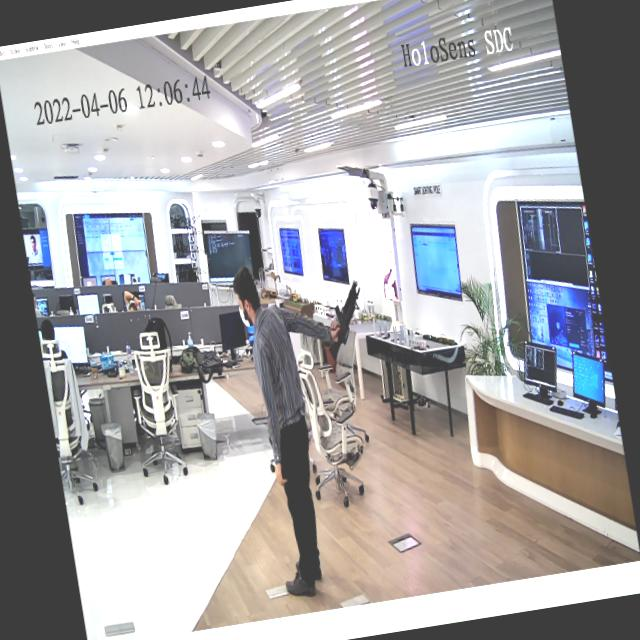long weapon: (314, 270, 376, 370)
